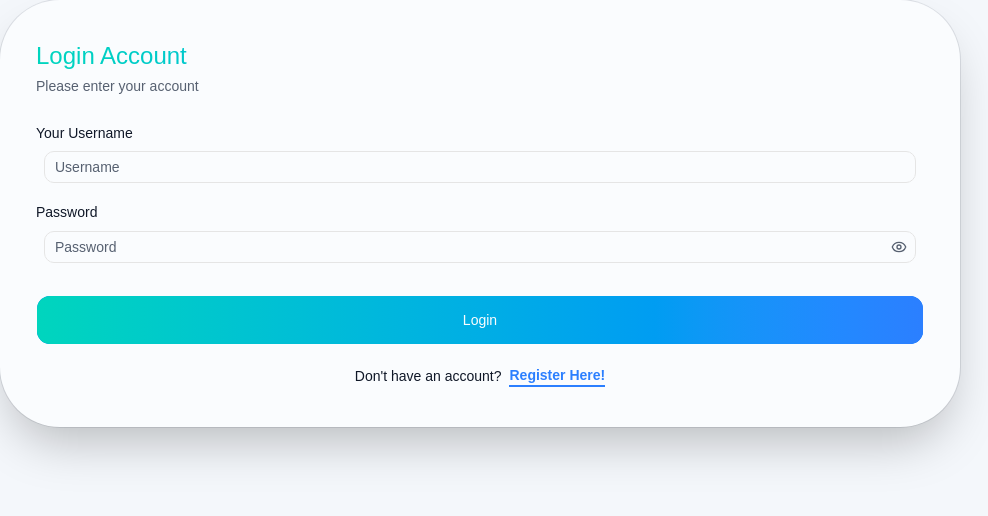
Test: Login Page › handles known Axios errors (e.g., wrong credentials) gracefully
Type "wrong_user" into the field labelled "Your Username".
click(480, 167); type("wrong_user")  # box [44,151,916,183]
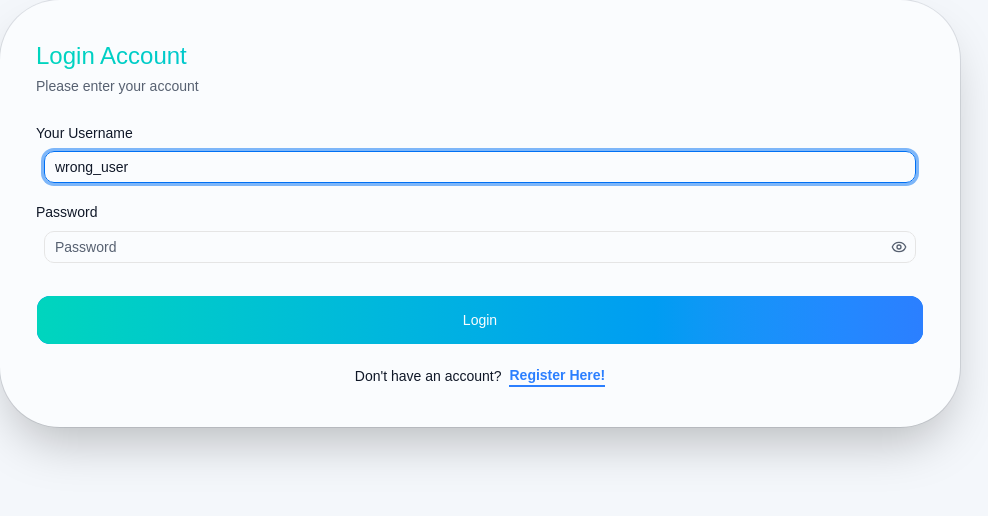
Type "wrong_pass" into the password field labelled "Password".
click(468, 246); type("wrong_pass")  # box [45,230,891,262]
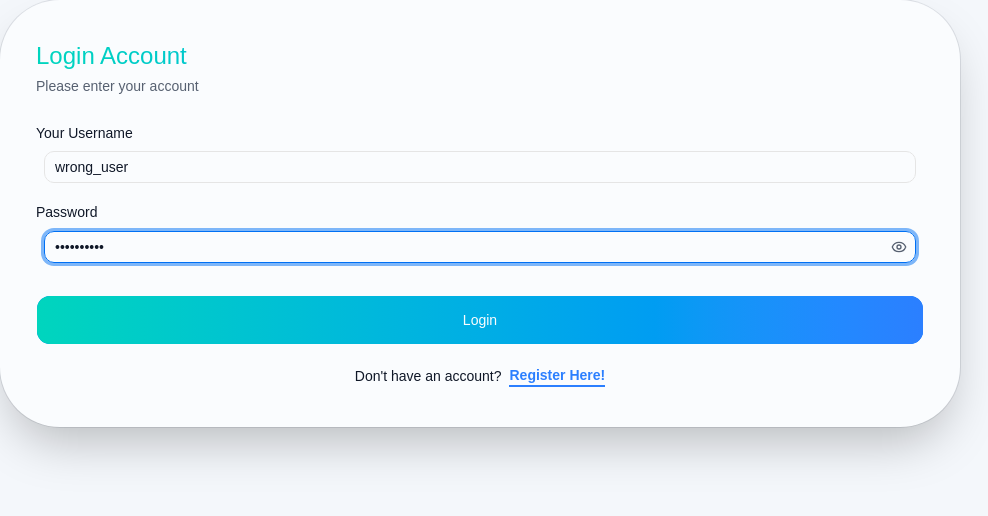
Click the button "Login".
click(480, 320)  # box [36,294,924,344]
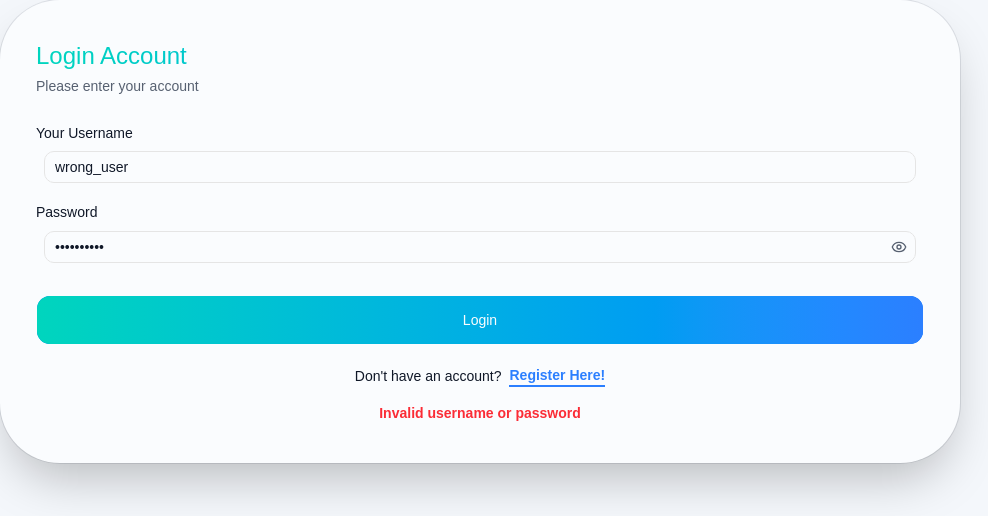
Now the text "Invalid username or password" is shown, box [379,404,581,420]
